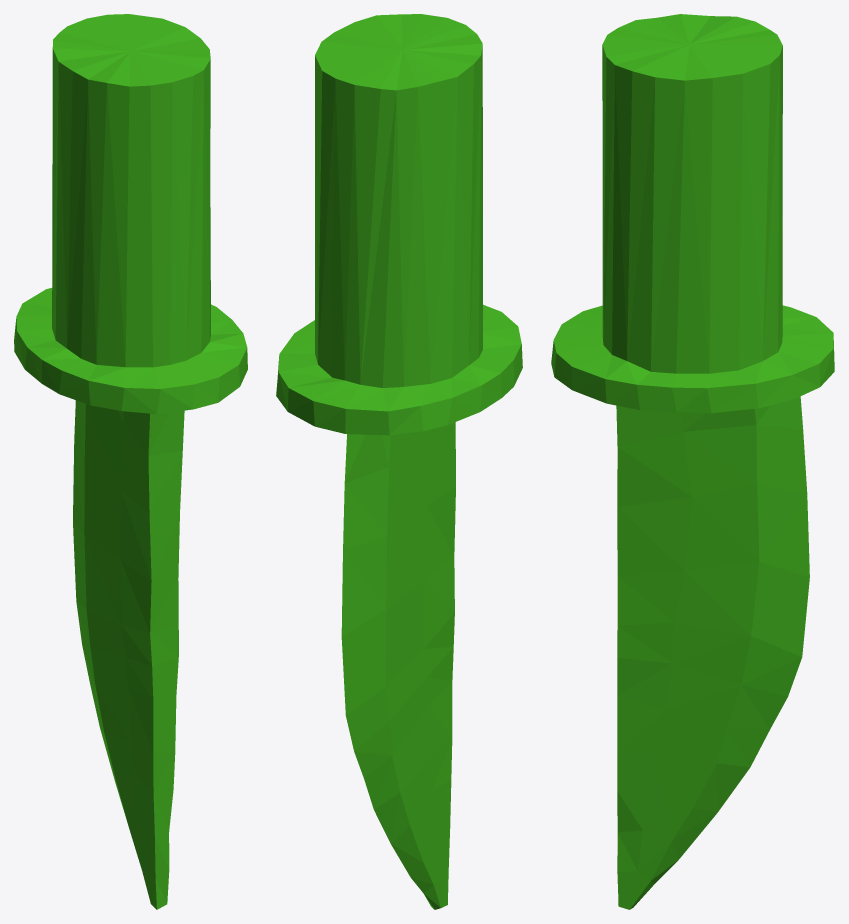
The model's file is Kid@knifeRight.FBX.
3 renders of one model, left to right at view 1: azimuth 30°, elevation 25°; view 2: azimuth 150°, elevation 25°; view 3: azimuth 270°, elevation 25°, orthographic. The views are drawn at different scales.
Visible parts, largest first — view 1: Knife_G; view 2: Knife_G; view 3: Knife_G.
Part boxes in pixels (x1,y1,x2,y2): Knife_G: [14, 14, 247, 909]; Knife_G: [276, 14, 522, 909]; Knife_G: [551, 14, 834, 909].
Bounding box in the file's own units: 3.15 × 13.48 × 4.01.
